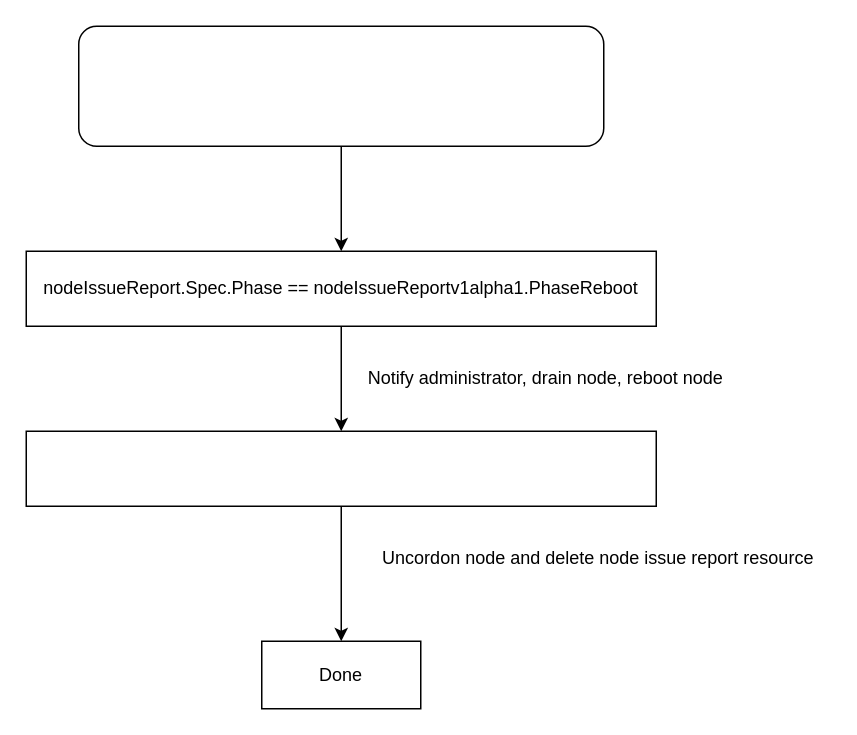
Image size: 857x735. Some labels were removed from this diagram. Here are the shapes that lost their labels. From the top down, the centre of each, then its label:
At point 340,85: "Node Issue is not tolerale and nodeIssueReport.Spec.Action is Reboot".
At point 340,468: "nodeIssueReport.Spec.Phase == nodeIssueReportv1alpha1.PhaseRebooted".
